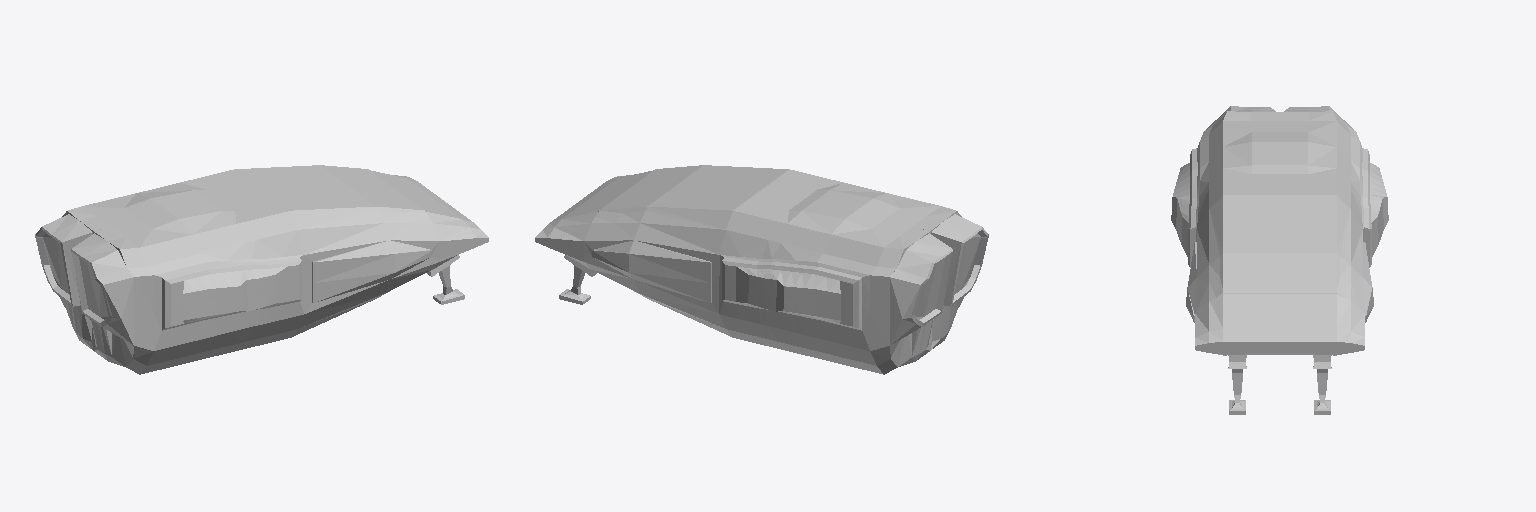
File: spaceship.obj
The picture shows the model from 3 angles: view 1: azimuth 30°, elevation 25°; view 2: azimuth 150°, elevation 25°; view 3: azimuth 270°, elevation 25°; orthographic projection.
Visible parts, largest first — view 1: Cube; view 2: Cube; view 3: Cube.
Boxes of the visible parts, x1=… form: Cube: x1=35, y1=165, x2=488, y2=374; Cube: x1=535, y1=165, x2=988, y2=374; Cube: x1=1171, y1=106, x2=1388, y2=414.
Bounding box in the file's own units: 31.1 × 10.86 × 15.4.